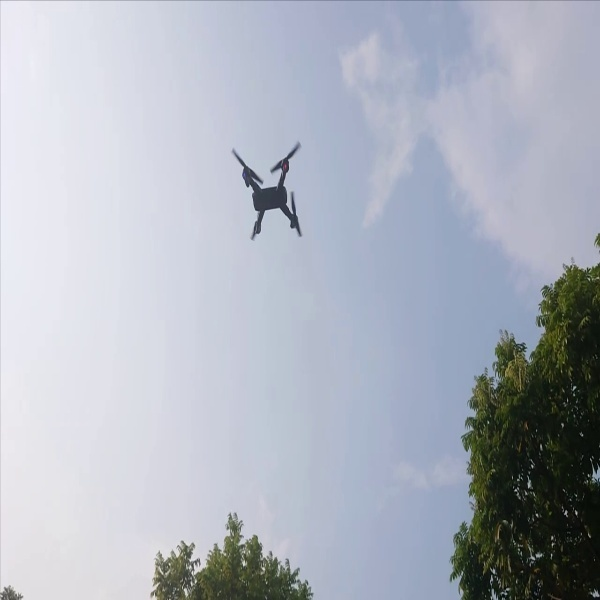drone: (219, 132, 314, 243)
